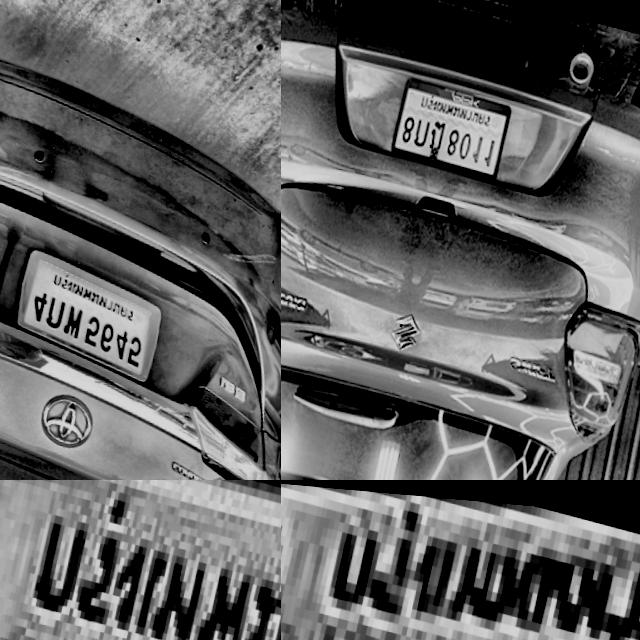license-plate: (281, 480, 640, 640), (0, 480, 281, 640), (9, 238, 175, 379), (389, 68, 515, 172)
